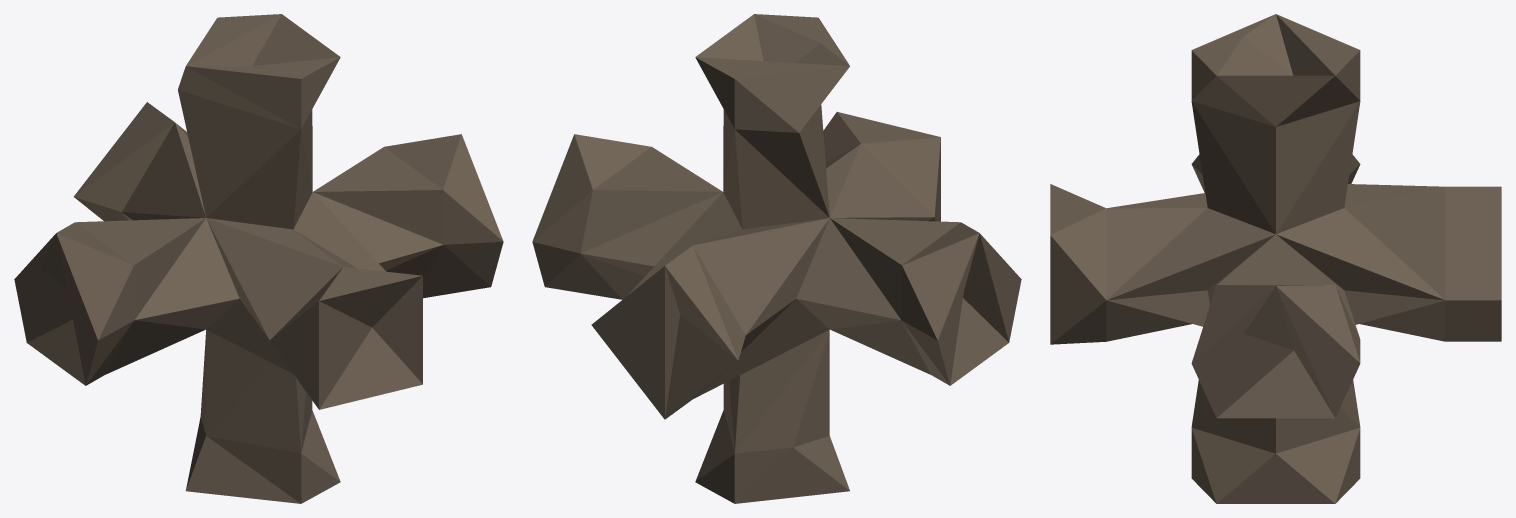
File: ew-pipe-bend.lod2.glb
The picture shows the model from 3 angles, left to right: view 1: azimuth 30°, elevation 25°; view 2: azimuth 150°, elevation 25°; view 3: azimuth 270°, elevation 25°; orthographic projection.
Visible parts, largest first — view 1: Object_37; view 2: Object_37; view 3: Object_37.
Part boxes in pixels (box(x1,y1,x2,y2)): Object_37: box(14, 14, 503, 503); Object_37: box(532, 14, 1021, 503); Object_37: box(1050, 14, 1501, 503).
Size of the model in its own units: 7.6 by 7.61 by 7.27.
